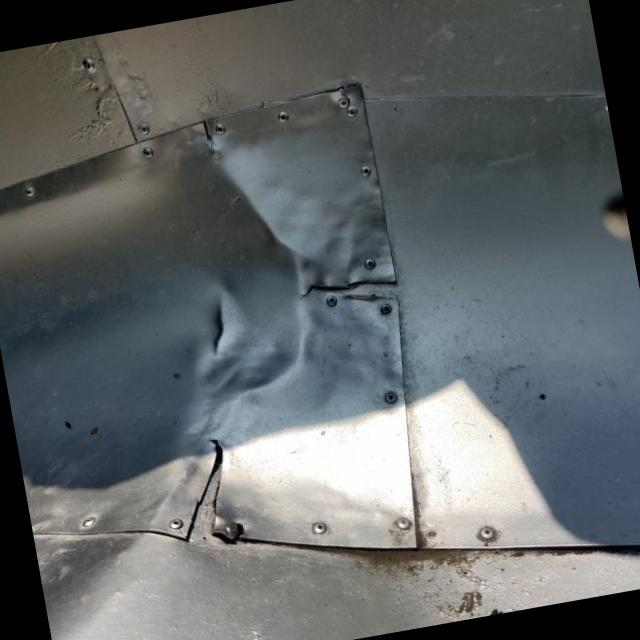Crack: (183, 441, 223, 548), (295, 264, 397, 299), (198, 117, 221, 160)
Dent: (102, 126, 366, 447)
